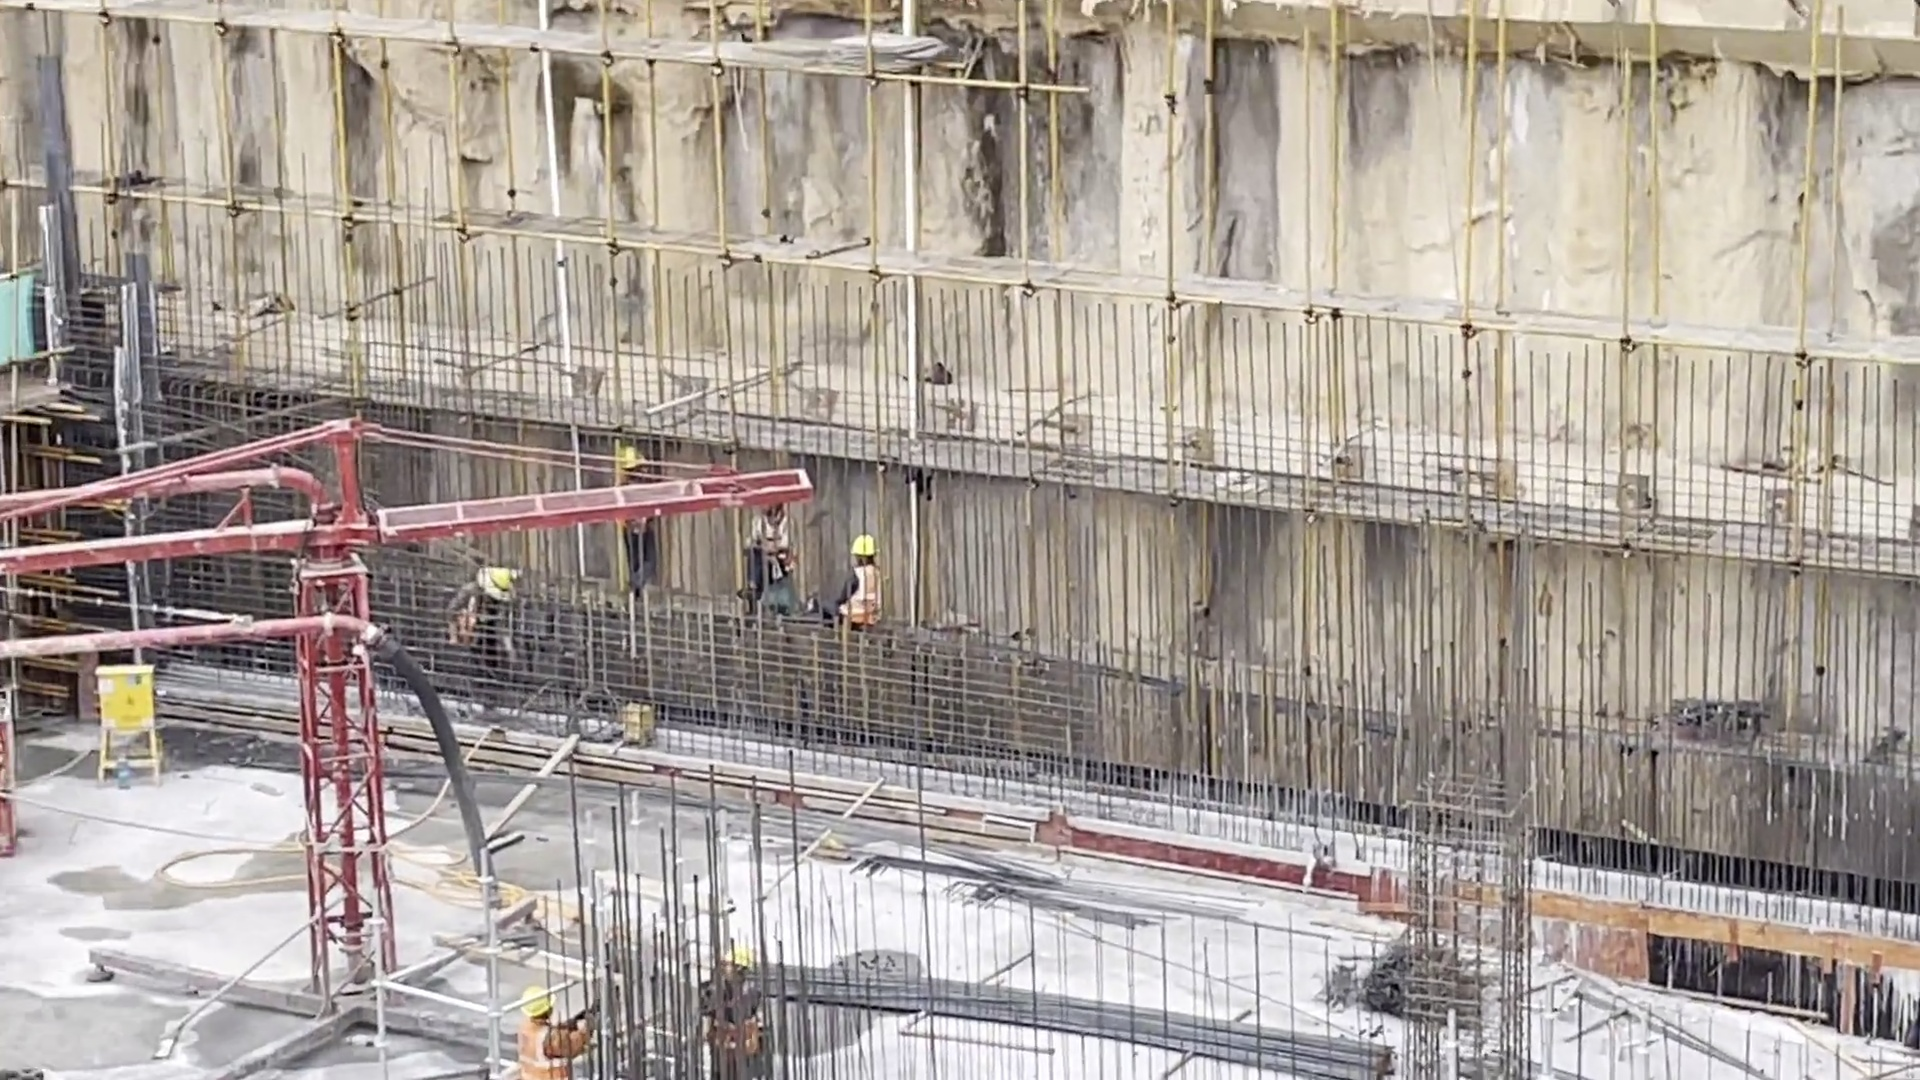ebox: (87, 663, 168, 745)
helmet: (515, 980, 563, 1019), (609, 444, 656, 483), (481, 560, 522, 596), (846, 526, 882, 559), (723, 937, 750, 972)
person: (699, 945, 781, 1080), (513, 969, 609, 1080), (448, 562, 521, 689), (743, 509, 802, 618), (836, 535, 895, 634)
rebar: (783, 904, 1399, 1080)
vest: (515, 1019, 574, 1078), (849, 565, 891, 626)
